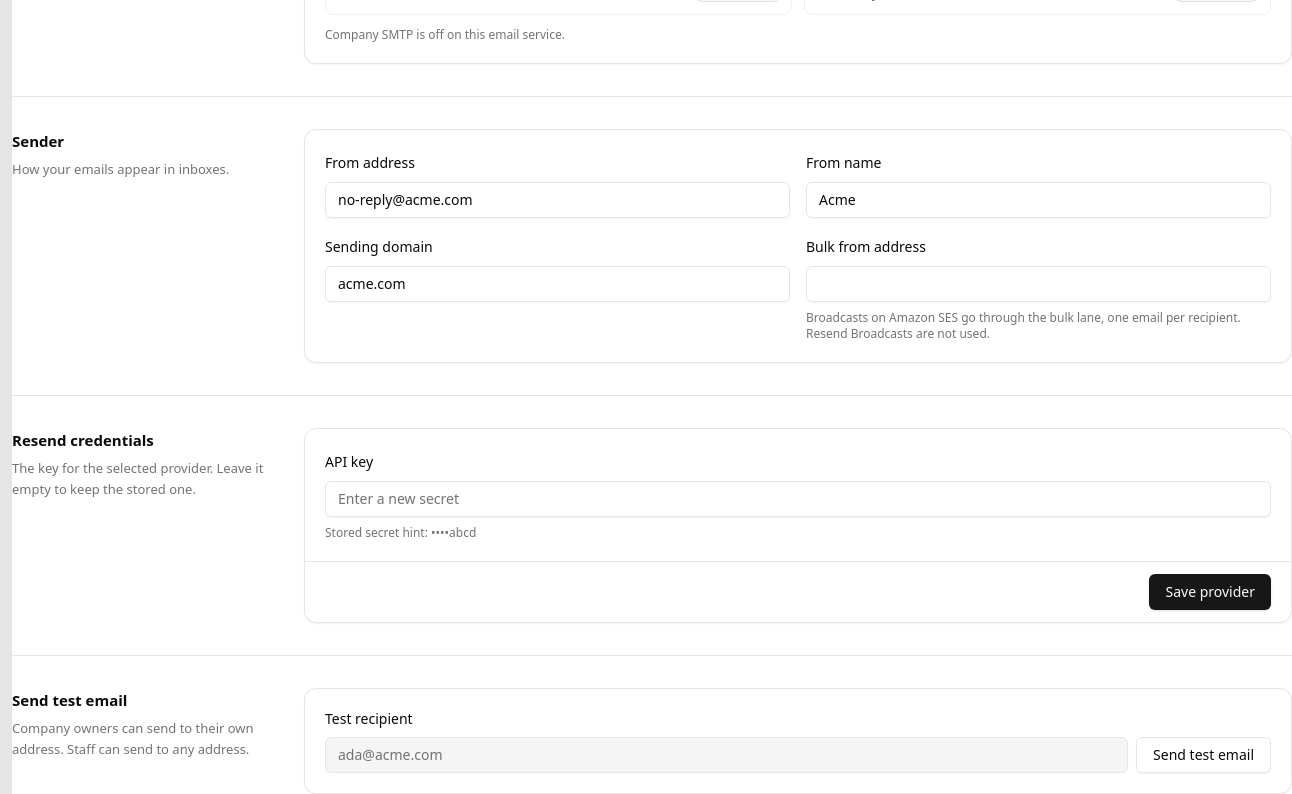
EmailProviderPage › keeps a save failure next to Save provider
The image size is (1292, 794).
(page scrolled)
Step 1. Click the button "Save provider" → (1210, 592), box [1150, 574, 1271, 610]
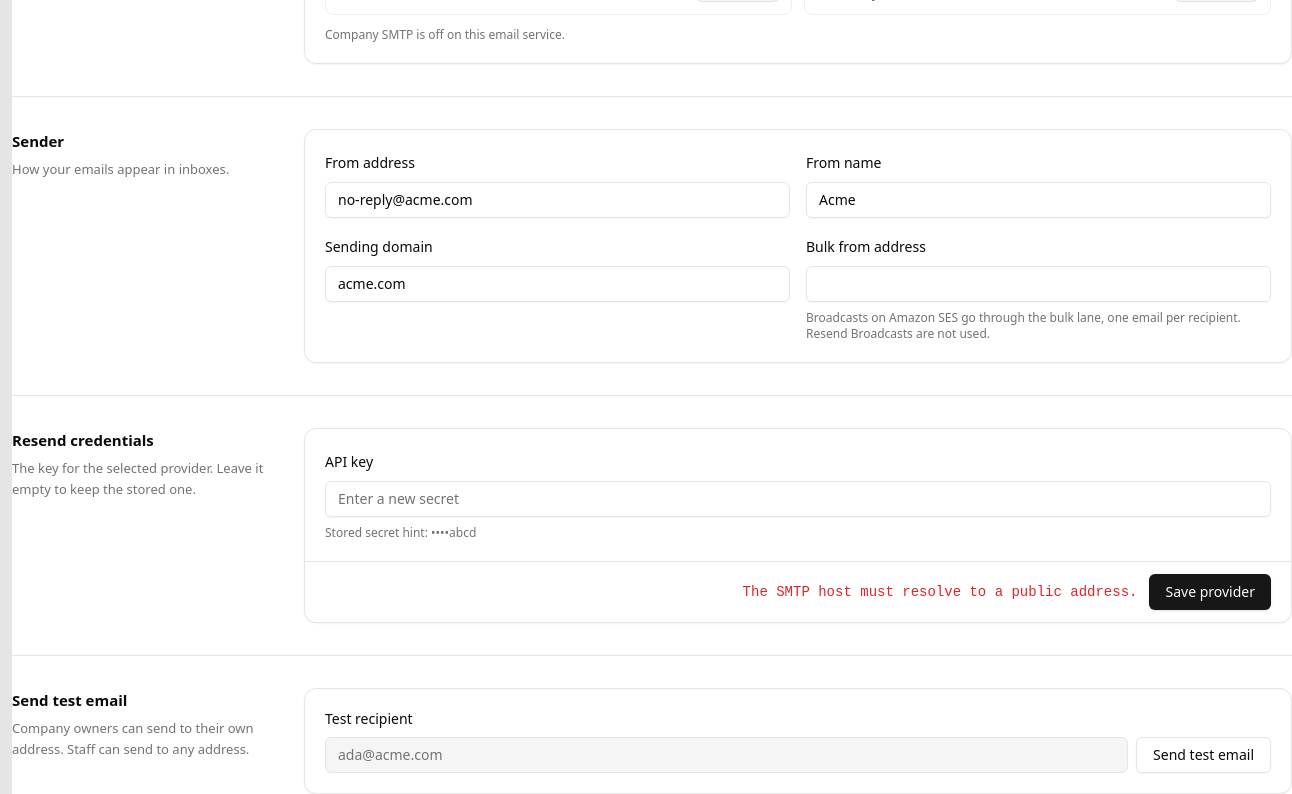
Check: the text "The SMTP host must resolve to a public address." is shown once, box [743, 582, 1138, 602]
